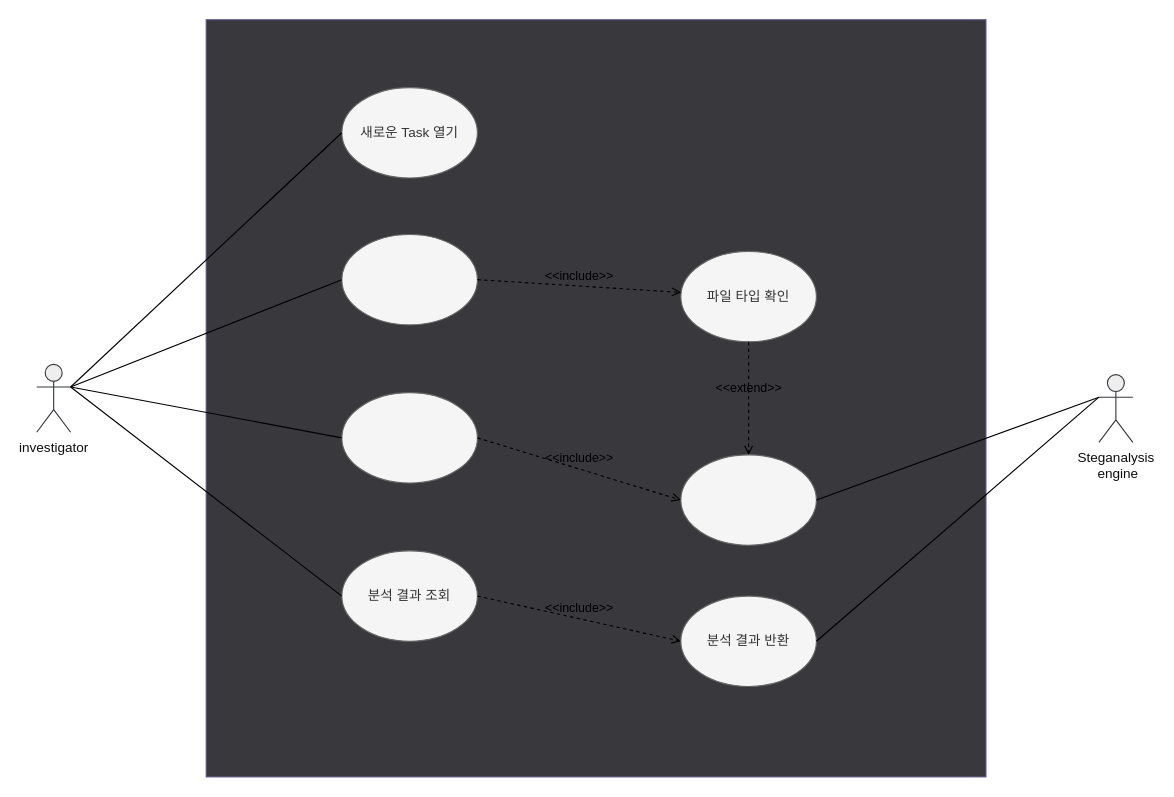
Image size: 1174x797. Some labels were removed from this diagram. The shapes that lost their labels are listed below. From the top down, each one's centre as x and y in pixels, then its label:
At point (409, 279): "매체 파일 업로드".
At point (409, 437): "파일 분석 요청".
At point (748, 499): "스테가노 그래피 기법 분석".
